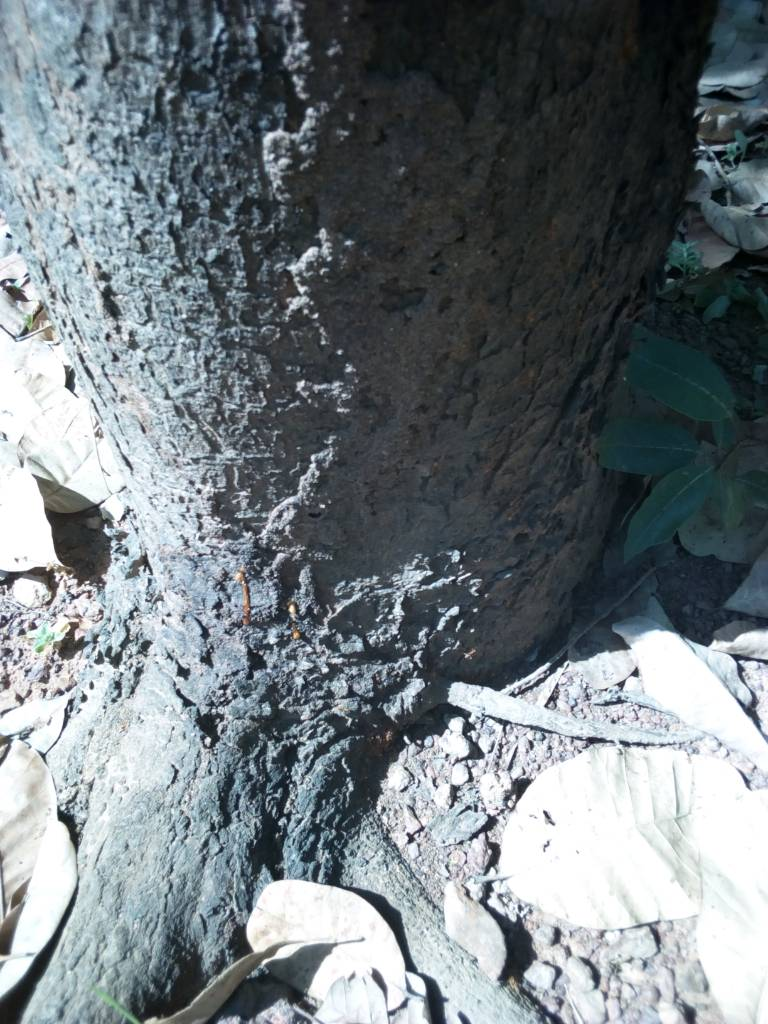Termites: (279, 35, 608, 650)
